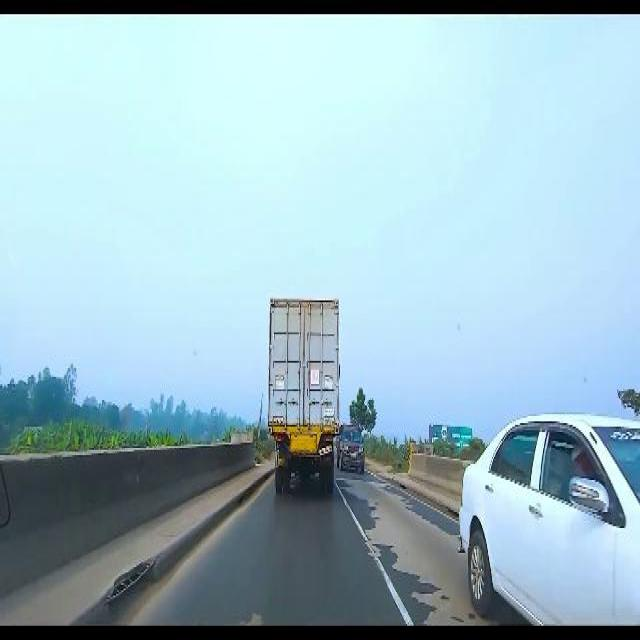vehicle: (457, 411, 640, 619), (265, 291, 338, 497), (340, 423, 367, 471)
